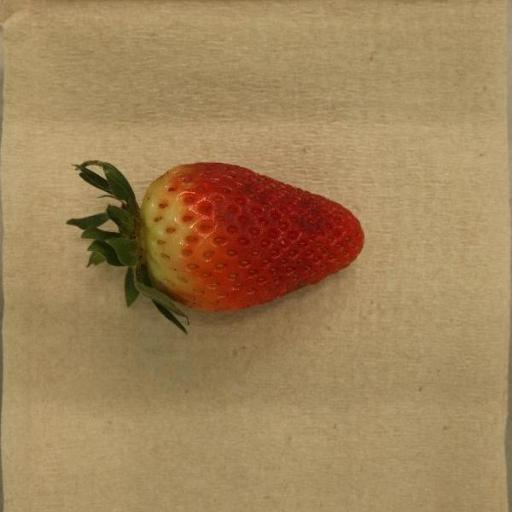Strawberry: (66, 161, 365, 333)
